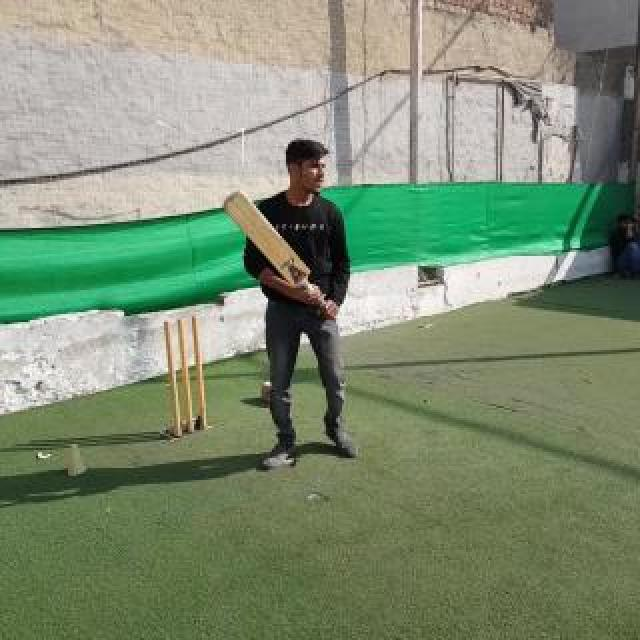bat: (222, 190, 338, 316)
